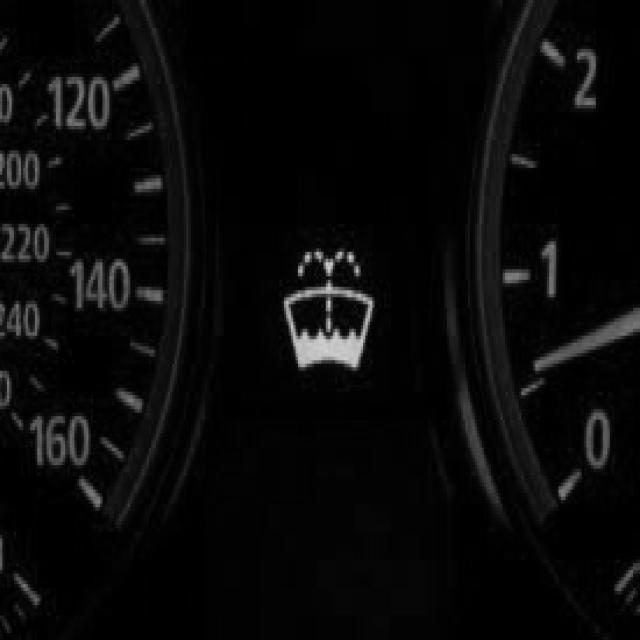Washer Fluid: (280, 252, 375, 372)
